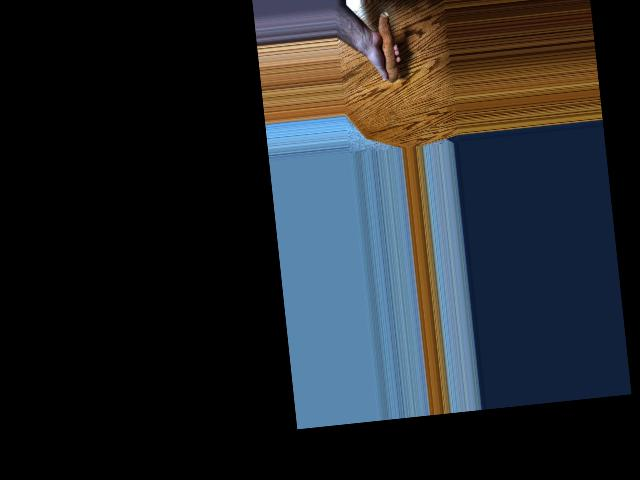sweet_potato: (372, 9, 403, 88)
